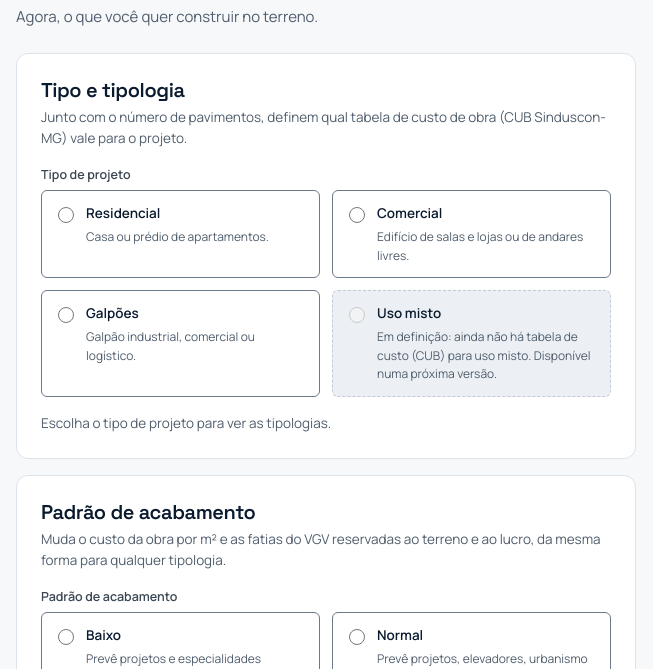
Test: Produto › com a Etapa 1 válida › programa do empreendimento (F10) › trocar de Prédio para Casa e voltar reavalia as travas e recupera o que foi digitado
Click the radio button labelled "Residencial Casa ou prédio de apartamentos." at (66, 215), box [58,207,74,223]
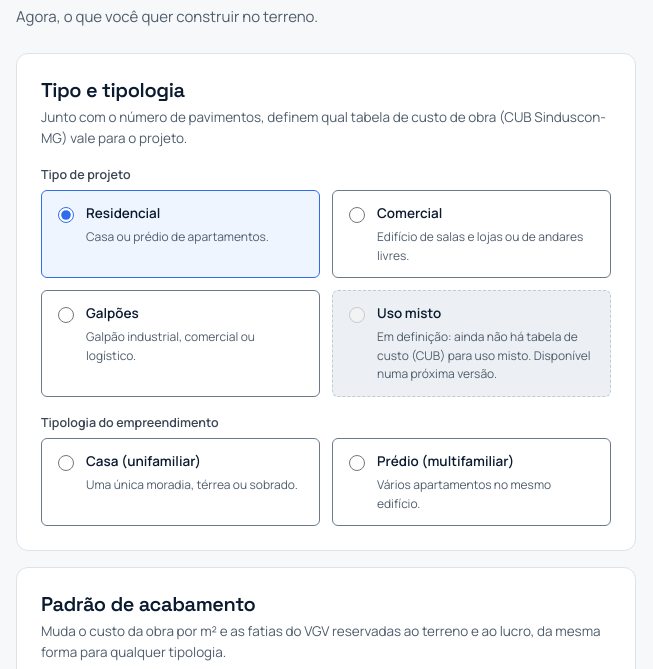
Click the 6th radio button at (357, 463), box [349,455,365,471]
(page scrolled)
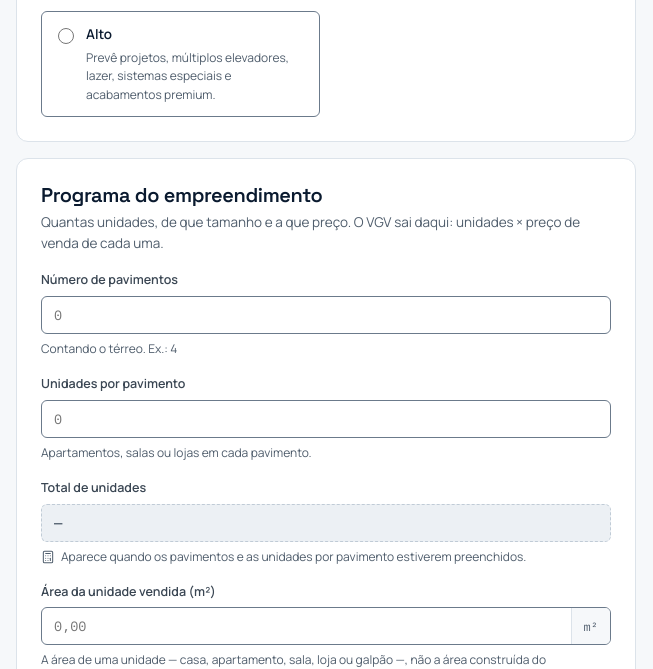
Type "4" into the field labelled "Número de pavimentos" at (326, 315), box [42,297,610,333]
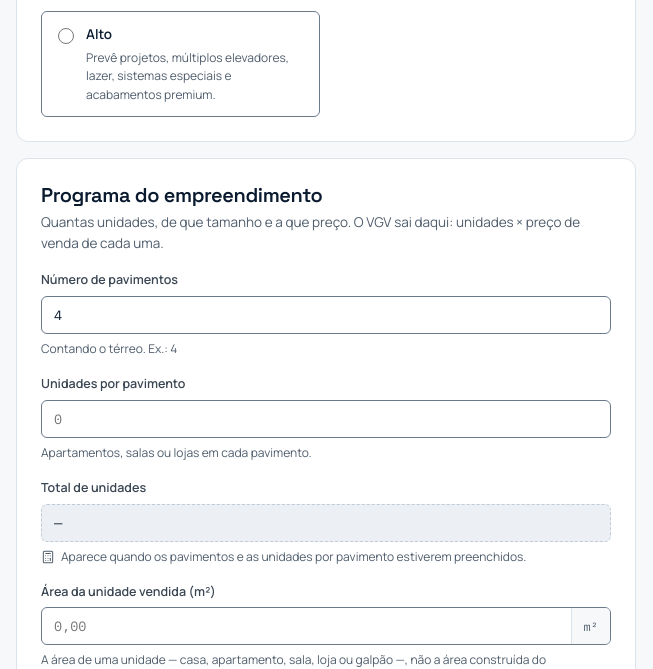
Type "4" into the field labelled "Unidades por pavimento" at (326, 418), box [42,400,610,436]
(page scrolled)
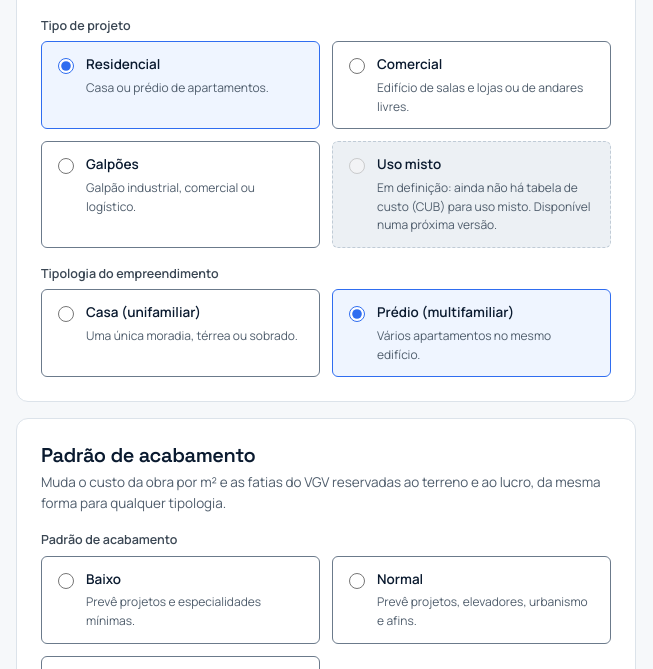
Click the radio button labelled "Casa (unifamiliar) Uma única moradia, térrea ou sobrado." at (66, 314), box [58,306,74,322]
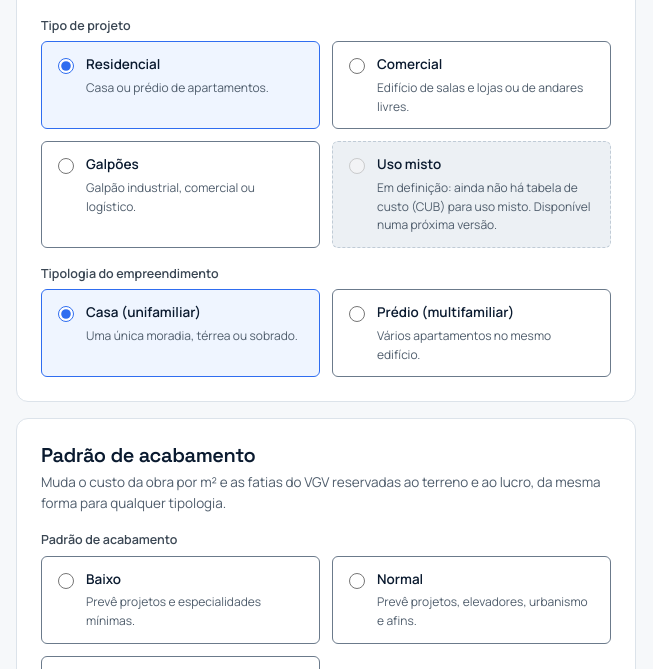
Click the 6th radio button at (357, 314), box [349,306,365,322]
(page scrolled)
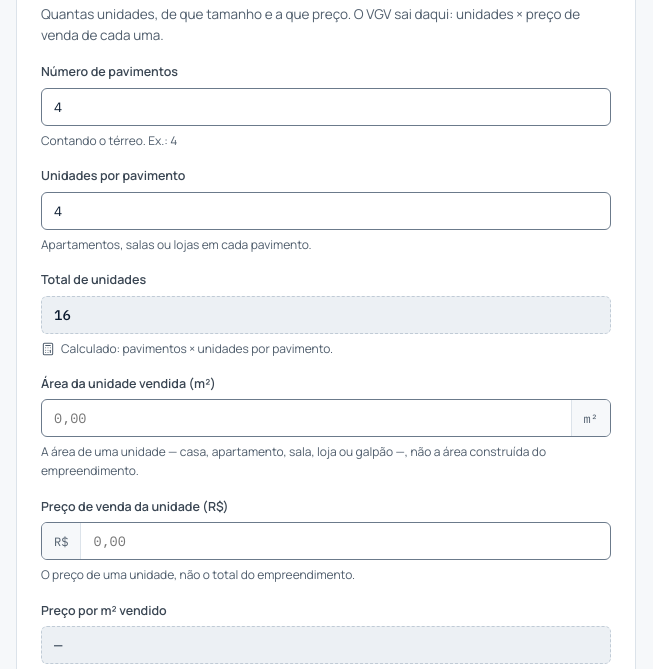
Check: the field labelled "Unidades por pavimento" holds "4", box [42,192,610,228]
Check: the text named "Total de unidades" reads "16", box [54,306,71,324]
